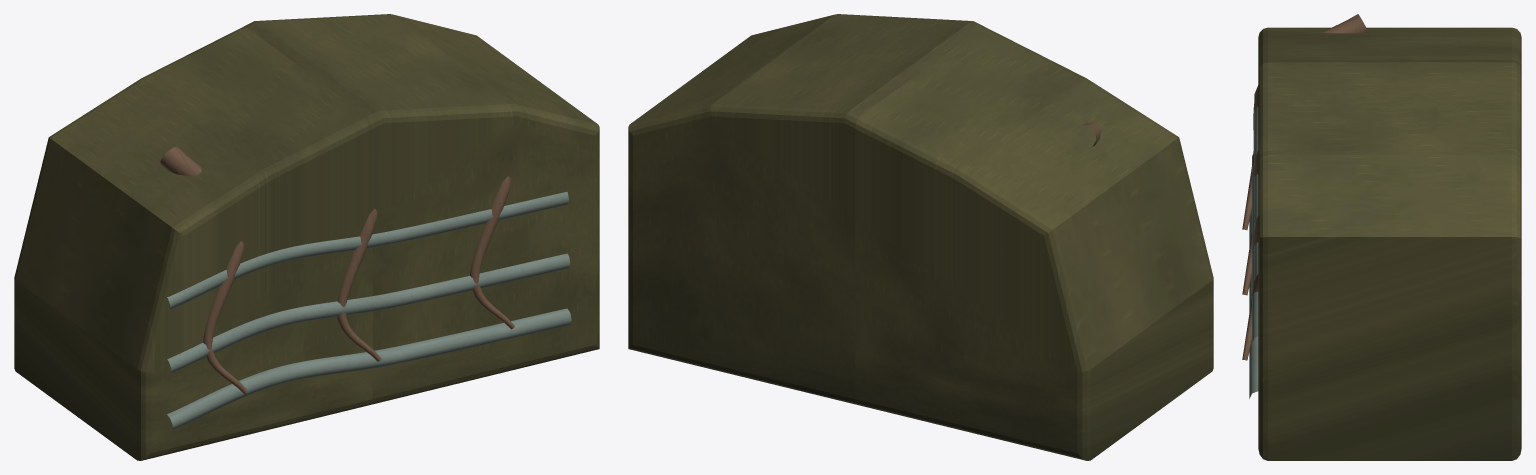
Rendered from bellroot-fen-floodward-marches-seasonal-flood-scar-cli-70cf6c5a.glb.
The picture shows the model from 3 angles, left to right: view 1: azimuth 30°, elevation 25°; view 2: azimuth 150°, elevation 25°; view 3: azimuth 270°, elevation 25°; orthographic projection.
Parts seen in each view (by area): view 1: seasonal-flood-scar-cliff; view 2: seasonal-flood-scar-cliff; view 3: seasonal-flood-scar-cliff.
Boxes of the visible parts, <box> form: seasonal-flood-scar-cliff: <box>14,14,599,460</box>; seasonal-flood-scar-cliff: <box>628,14,1213,460</box>; seasonal-flood-scar-cliff: <box>1242,14,1521,460</box>.
Bounding box in the file's own units: 4.15 × 2.5 × 2.17.
Materials: 3 (3 with a texture image).
